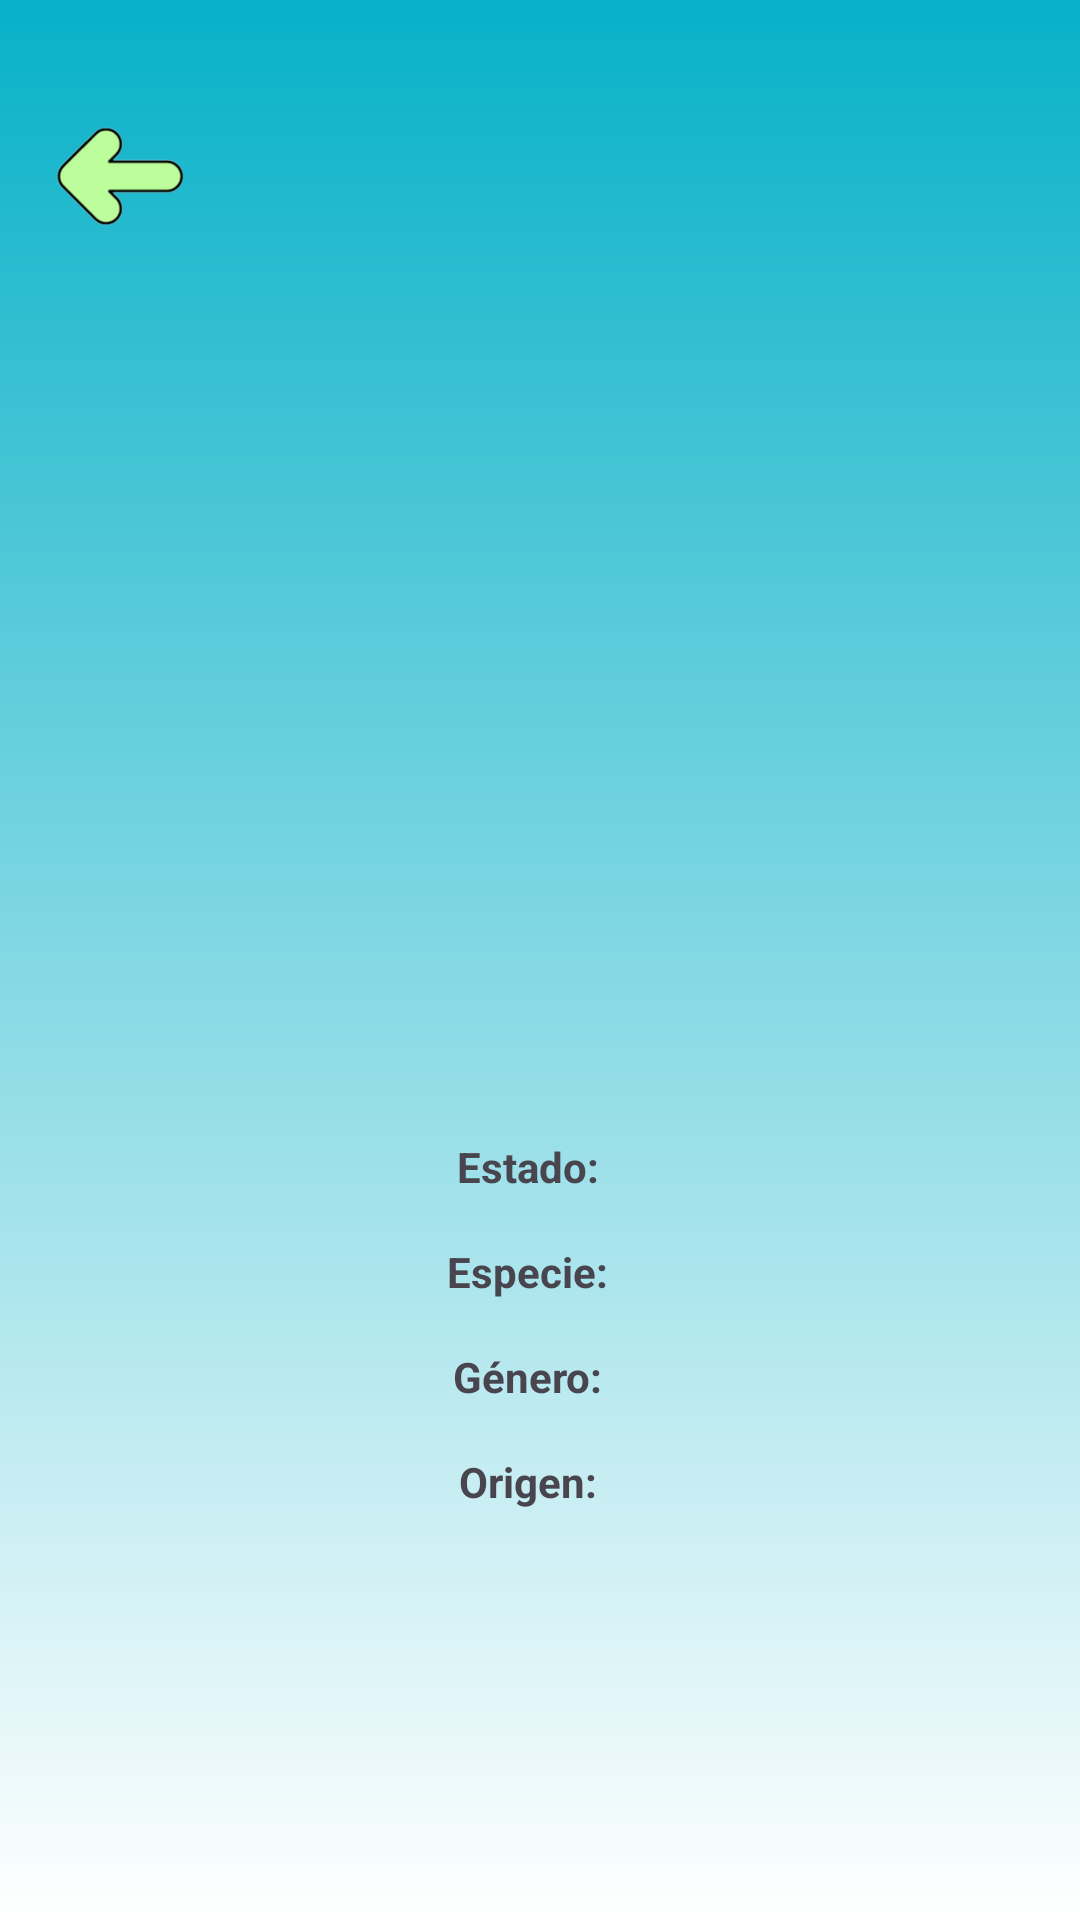

Point at icon controls on the screen. Image size 1080px x 1920px, points as [x,y].
flecha: [120,176]
